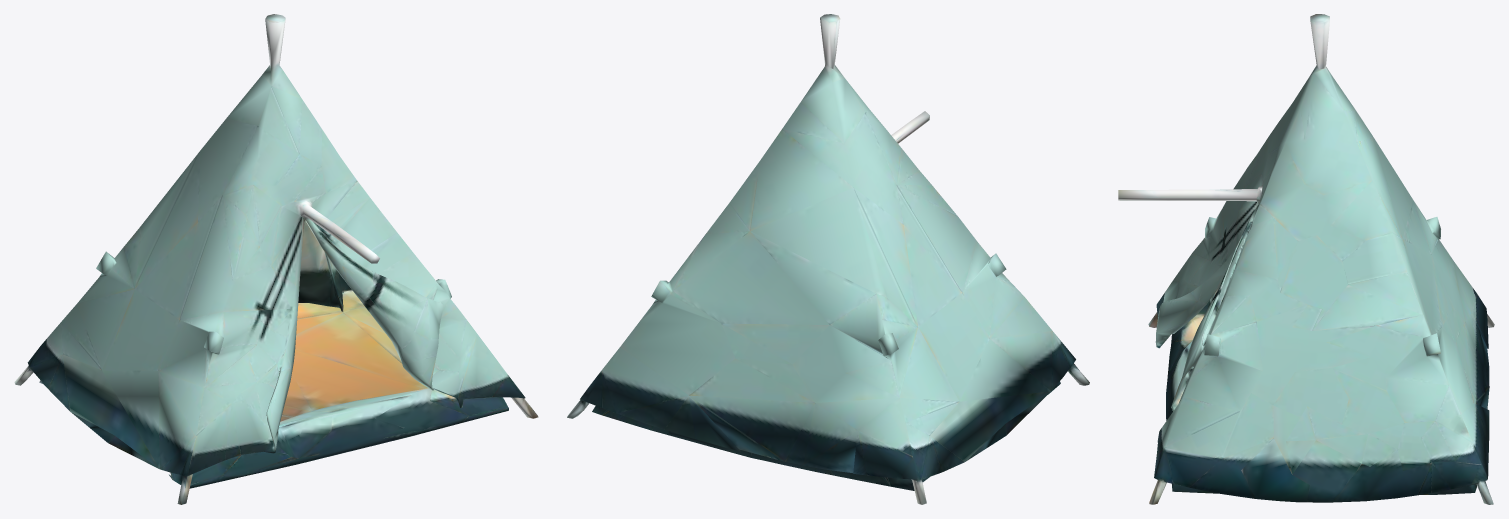
The model's file is tent.glb.
3 views of the same model, side by side, from view 1: azimuth 30°, elevation 25°; view 2: azimuth 150°, elevation 25°; view 3: azimuth 270°, elevation 25° (orthographic). The views are drawn at different scales.
Size of the model in its own units: 1.87 by 1.91 by 1.64.
Materials: 1 (1 with a texture image).
